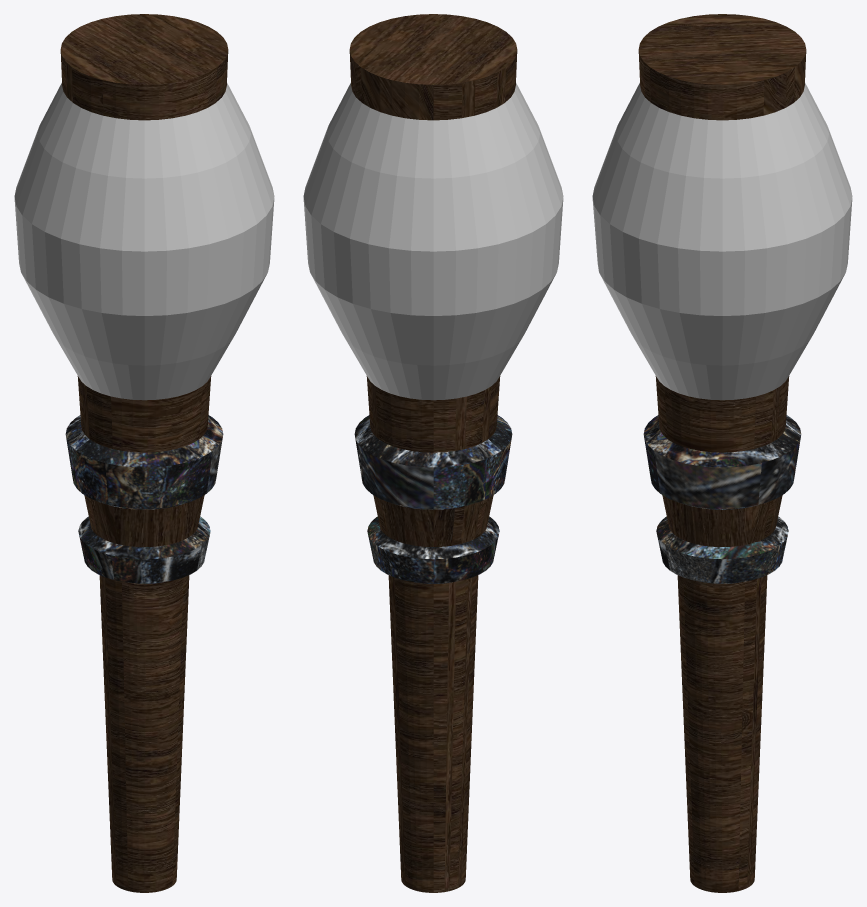
File: torch.fbx
3 views of the same model, side by side, from view 1: azimuth 30°, elevation 25°; view 2: azimuth 150°, elevation 25°; view 3: azimuth 270°, elevation 25° (orthographic).
Parts seen in each view (by area): view 1: Cylinder; view 2: Cylinder; view 3: Cylinder.
Boxes of the visible parts, x1,y1,x2,y2 form: Cylinder: [14, 14, 274, 892]; Cylinder: [303, 14, 563, 892]; Cylinder: [592, 14, 852, 892].
Size of the model in its own units: 65.1 by 229 by 65.1.
